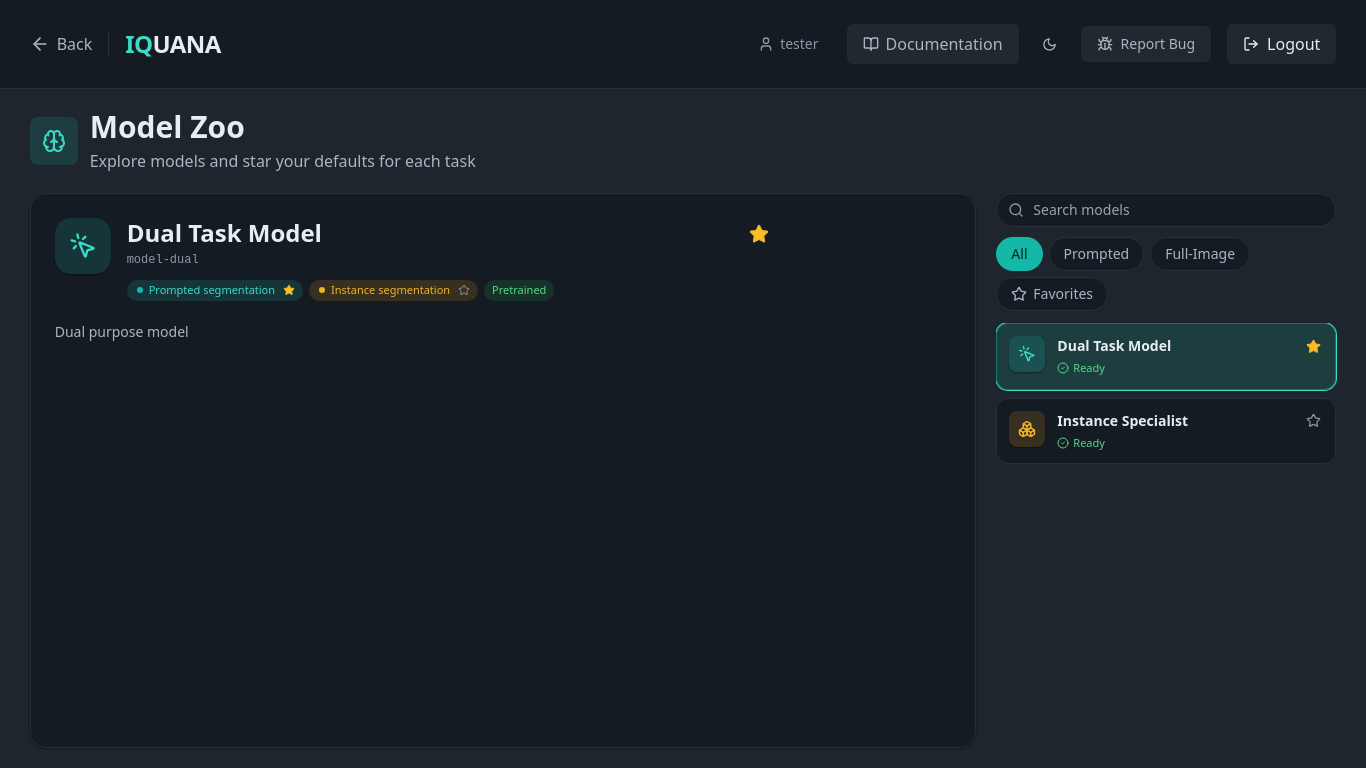
Test: ModelZooPage task-specific favorites › displays favorite when viewing all tasks, but NOT when viewing task where it is not favorited
Expected: the 2nd heading "Dual Task Model" is shown, [1057,336,1171,355]
Expected: the button "Favorites" is shown, [996,277,1108,311]
// Switch facet to 'Full-Image' (where model-dual is NOT favorited)
Click the button "Full-Image". click: (1200, 254)
box: [1150,237,1250,271]
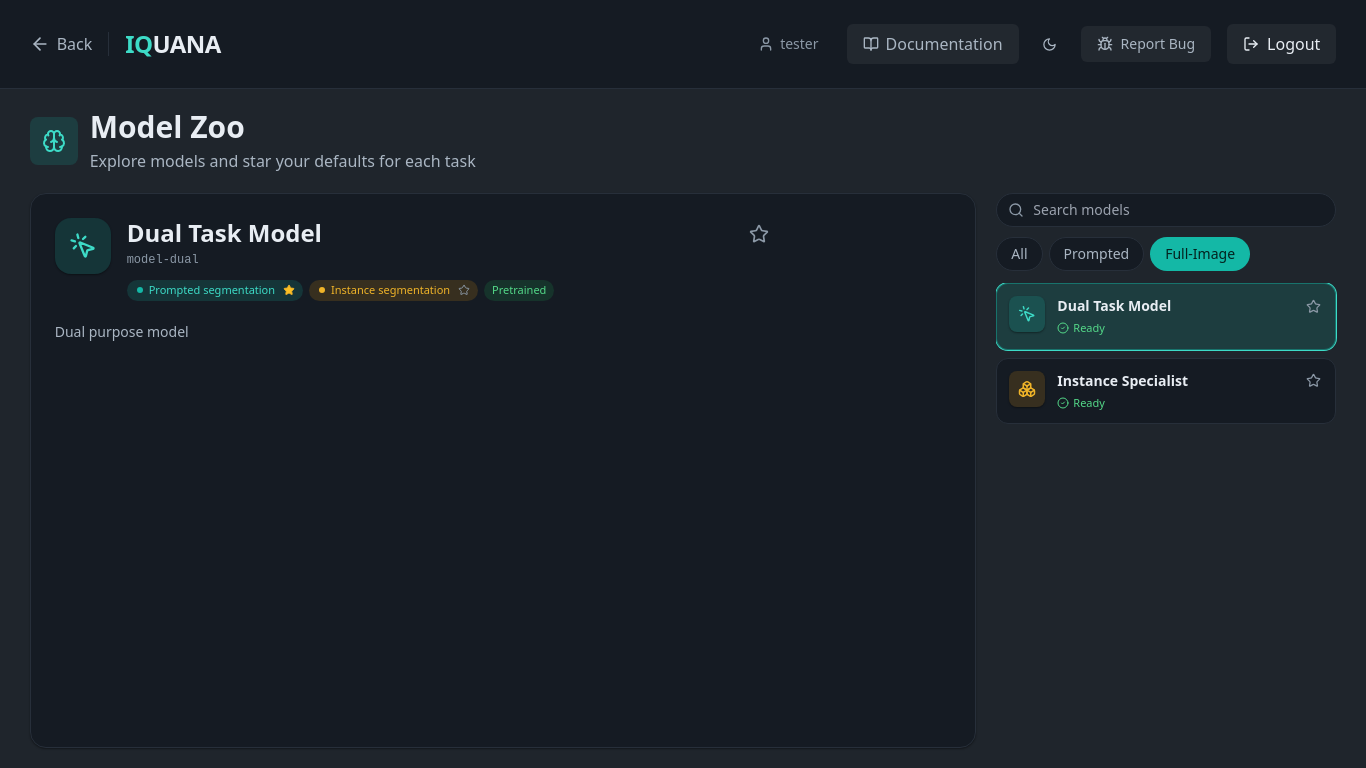
Expected: the button "Favorites" is gone
